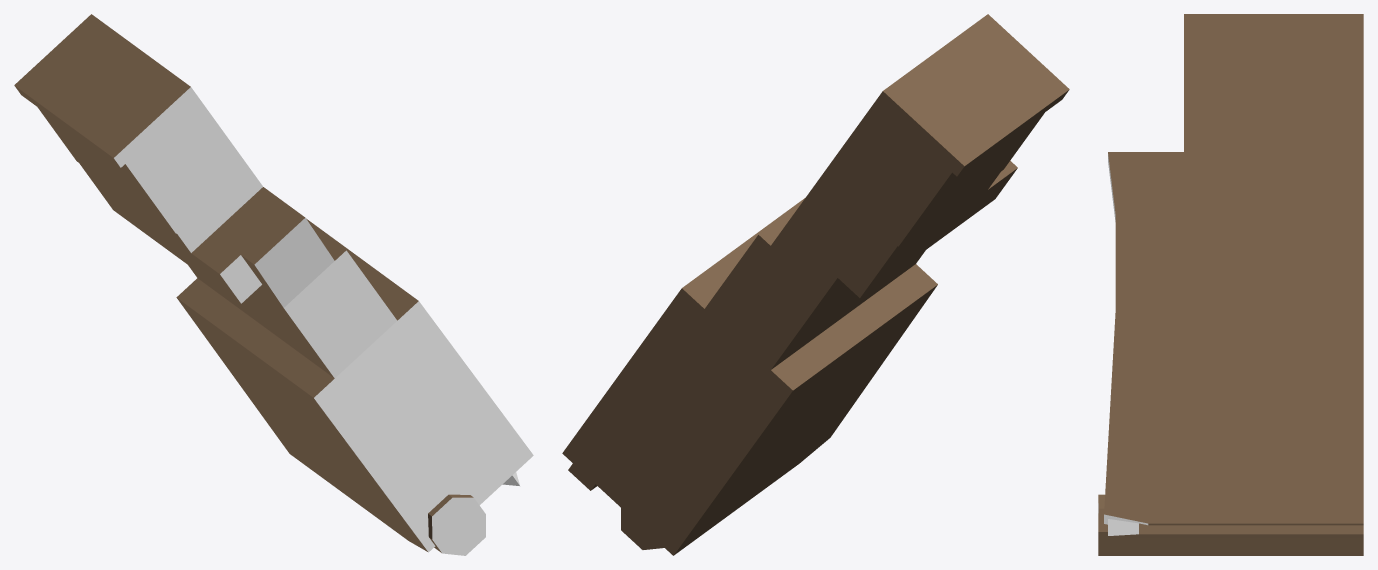
3 views of the same model, side by side, from view 1: azimuth 30°, elevation 25°; view 2: azimuth 150°, elevation 25°; view 3: azimuth 270°, elevation 25° (orthographic). The views are drawn at different scales.
Parts seen in each view (by area): view 1: City_PC-11819; view 2: City_PC-11819; view 3: City_PC-11819.
Boxes of the visible parts, box(x1,y1,x2,y2) form: City_PC-11819: box(14, 14, 533, 555); City_PC-11819: box(562, 14, 1069, 555); City_PC-11819: box(1098, 14, 1363, 555).
Size of the model in its own units: 2344 by 2882 by 1567.
